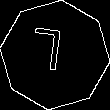L_S: (36, 28, 74, 82)
